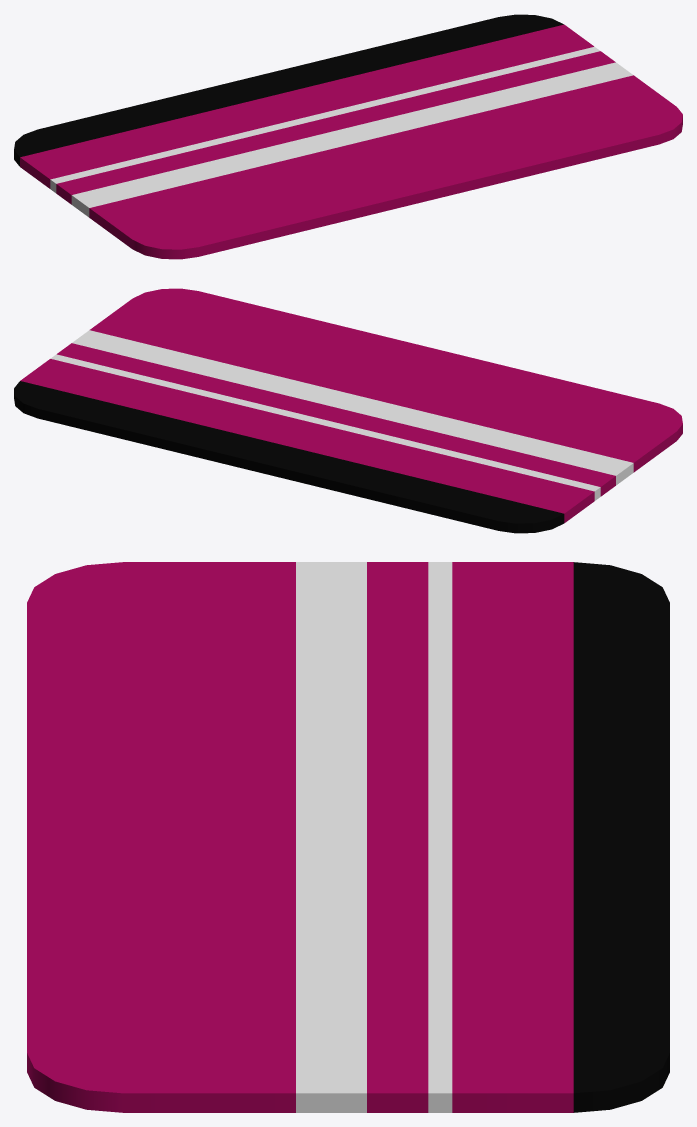
Rendered from Room102Keycard.fbx.
3 views of the same model, one above another, from view 1: azimuth 30°, elevation 25°; view 2: azimuth 150°, elevation 25°; view 3: azimuth 270°, elevation 25° (orthographic). The views are drawn at different scales.
Visible parts, largest first — view 1: pCube1; view 2: pCube1; view 3: pCube1.
Boxes of the visible parts, x1=… form: pCube1: x1=14, y1=14, x2=682, y2=259; pCube1: x1=14, y1=288, x2=682, y2=533; pCube1: x1=27, y1=562, x2=669, y2=1112.
Size of the model in its own units: 6.97 by 0.1194 by 3.57.
